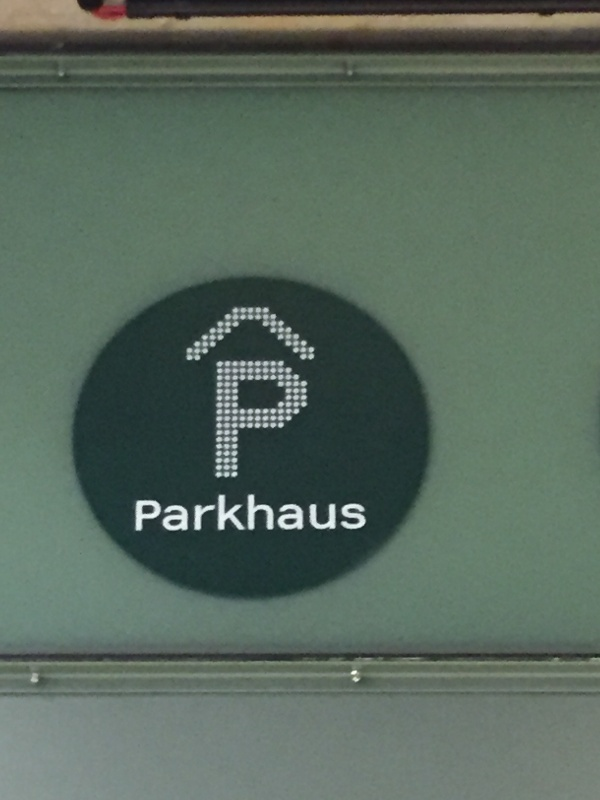text: (225, 360, 240, 483), (241, 360, 256, 483), (257, 360, 272, 483), (273, 360, 288, 483), (289, 360, 304, 483), (216, 360, 224, 483), (305, 360, 312, 483), (145, 494, 160, 536), (161, 494, 176, 536), (177, 494, 192, 536), (193, 494, 208, 536), (209, 494, 224, 536), (225, 494, 240, 536), (241, 494, 256, 536), (257, 494, 272, 536), (273, 494, 288, 536), (289, 494, 304, 536), (305, 494, 320, 536), (321, 494, 336, 536), (337, 494, 352, 536), (353, 494, 367, 536), (135, 494, 144, 536)
